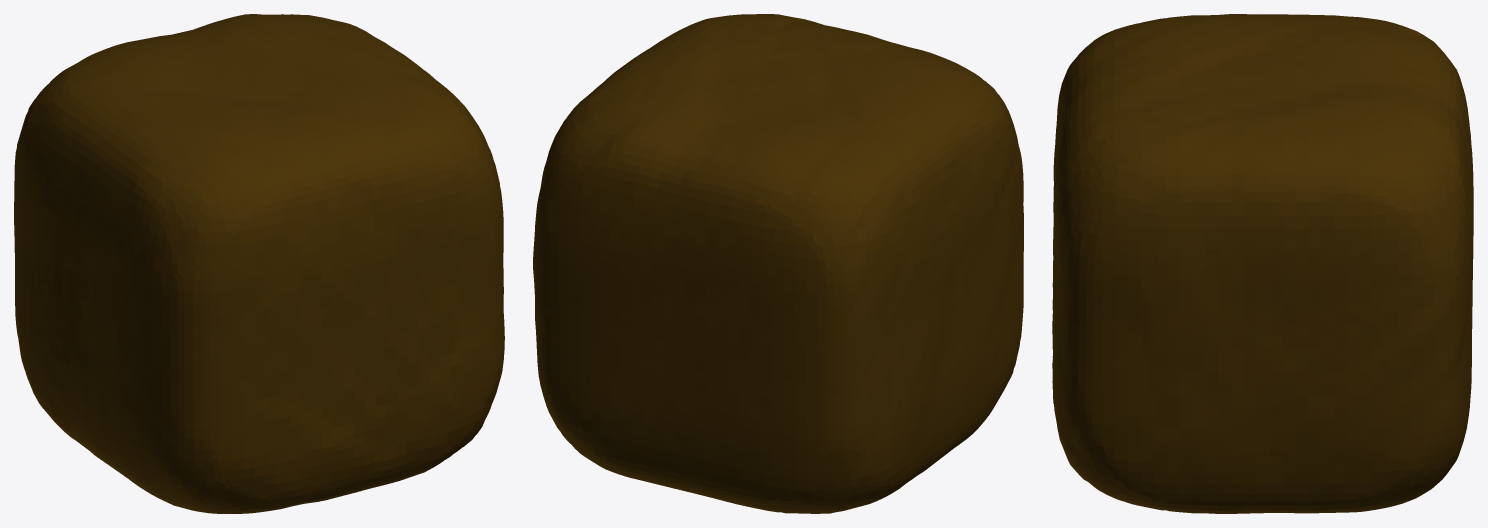
File: DirtBlock.glb
3 views of the same model, side by side, from view 1: azimuth 30°, elevation 25°; view 2: azimuth 150°, elevation 25°; view 3: azimuth 270°, elevation 25° (orthographic). The views are drawn at different scales.
Visible parts, largest first — view 1: Cube; view 2: Cube; view 3: Cube.
Part boxes in pixels (box(x1,y1,x2,y2)): Cube: box(14, 14, 504, 513); Cube: box(533, 14, 1023, 513); Cube: box(1052, 14, 1473, 513).
Size of the model in its own units: 2.05 by 2.04 by 2.03.
